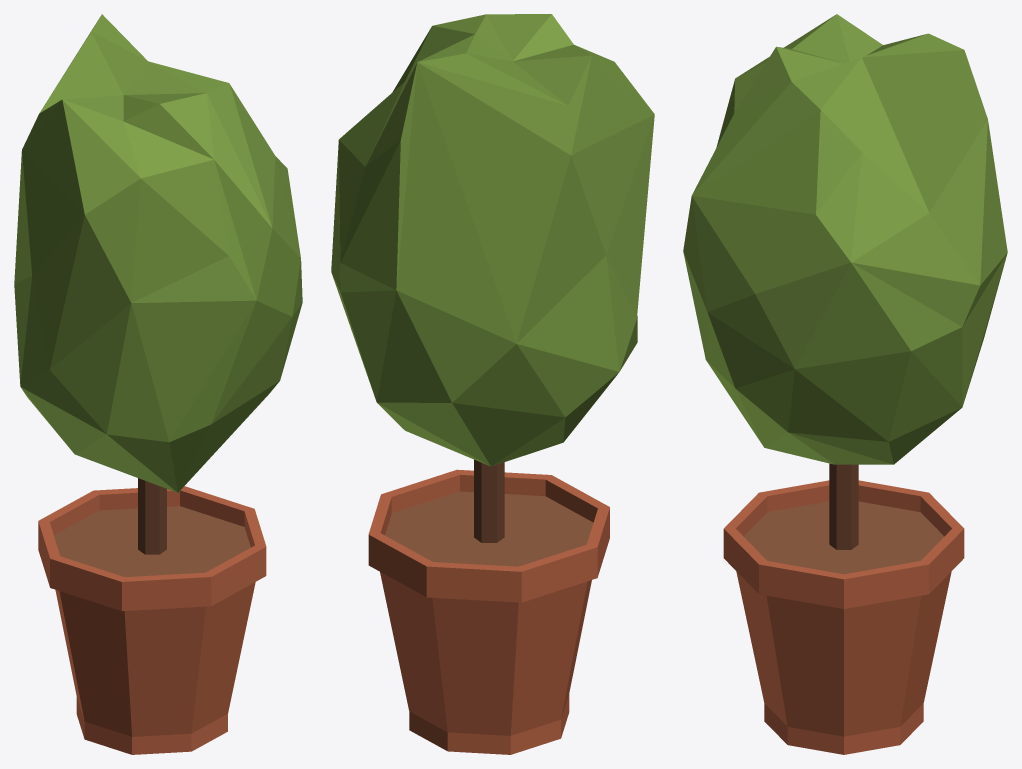
File: Pot_01.fbx
3 renders of one model, left to right at view 1: azimuth 30°, elevation 25°; view 2: azimuth 150°, elevation 25°; view 3: azimuth 270°, elevation 25°, orthographic. The views are drawn at different scales.
Parts seen in each view (by area): view 1: Pot_01; view 2: Pot_01; view 3: Pot_01.
Part boxes in pixels (<box>): Pot_01: <box>14,14,302,754</box>; Pot_01: <box>331,14,654,754</box>; Pot_01: <box>683,14,1007,754</box>.
Size of the model in its own units: 50.49 by 121 by 52.34.
